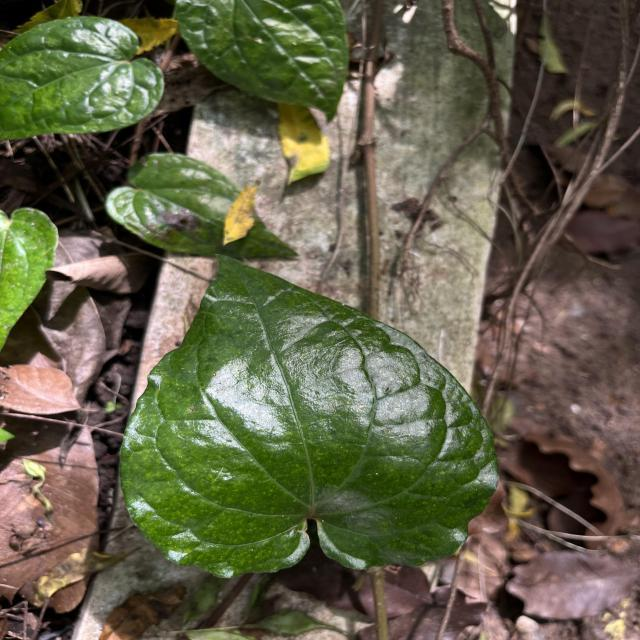Piper betle: (115, 247, 504, 581)
